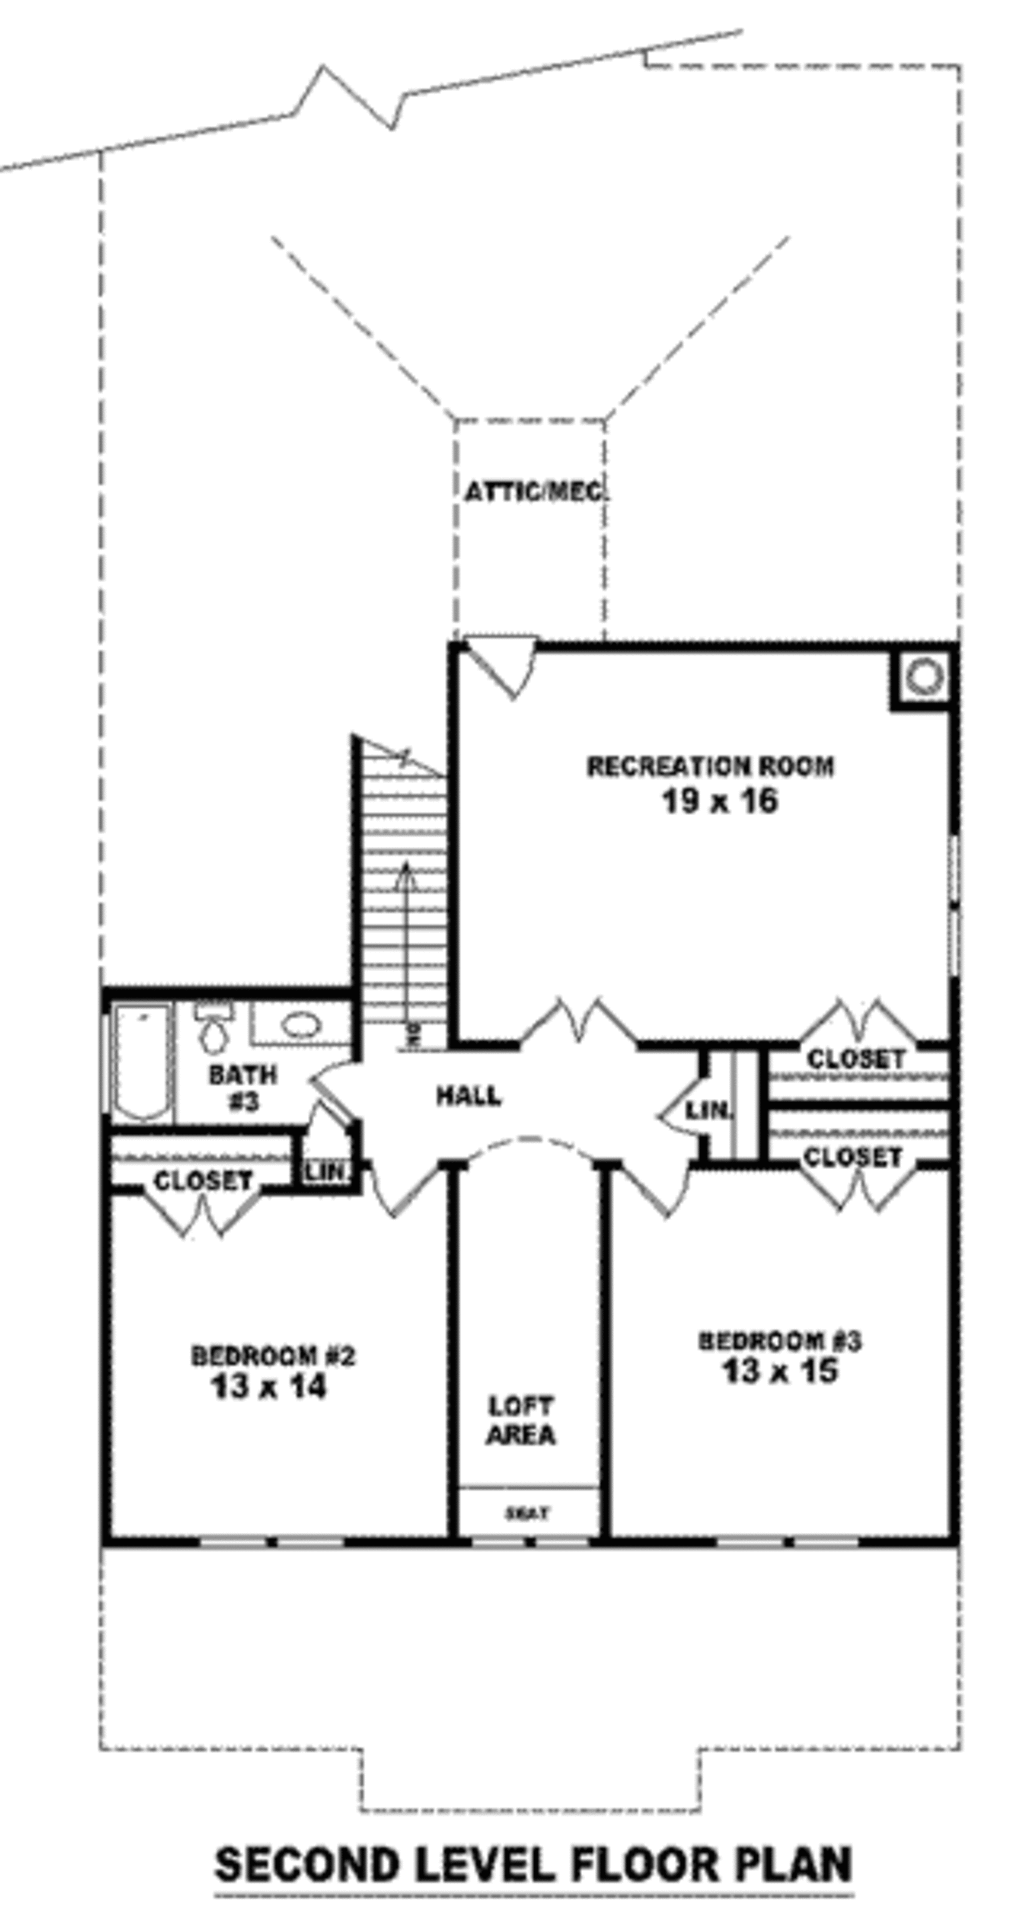door: (461, 623, 565, 716), (778, 1146, 914, 1217), (516, 992, 652, 1054), (154, 1179, 270, 1249), (799, 992, 911, 1046), (629, 1158, 705, 1237), (305, 1061, 367, 1120), (373, 1154, 423, 1225)
large_sink: (197, 979, 252, 1084)
small_sink: (249, 1003, 338, 1046)
stairs: (358, 728, 461, 1054)
tub: (103, 987, 185, 1130)
window: (197, 1523, 358, 1579), (932, 846, 976, 984), (702, 1528, 889, 1549), (454, 1528, 597, 1554)
